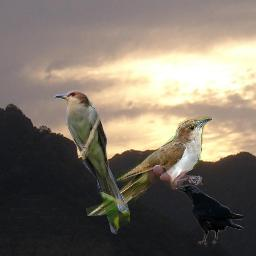Crow: (175, 184, 244, 247)
Cuckoo: (86, 116, 212, 216), (54, 90, 130, 234)
